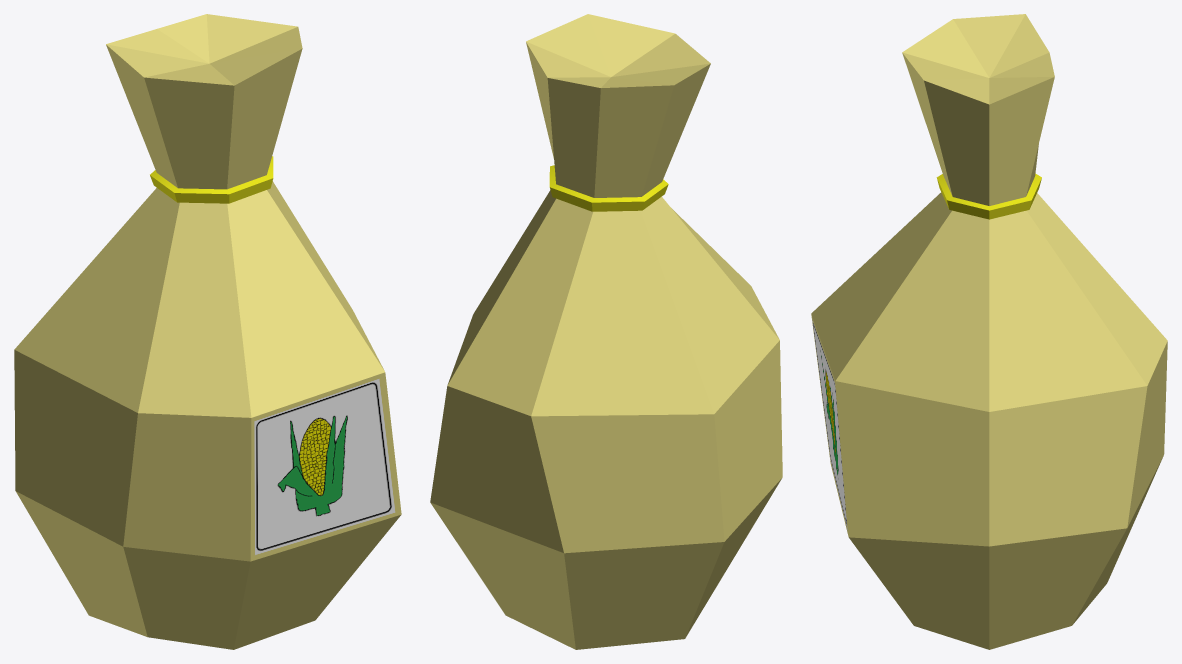
Rendered from SeedBagCorn.fbx.
3 views of the same model, side by side, from view 1: azimuth 30°, elevation 25°; view 2: azimuth 150°, elevation 25°; view 3: azimuth 270°, elevation 25° (orthographic). The views are drawn at different scales.
Parts seen in each view (by area): view 1: SeedBagCorn; view 2: SeedBagCorn; view 3: SeedBagCorn.
Part boxes in pixels (x1=…): SeedBagCorn: x1=14, y1=14, x2=401, y2=649; SeedBagCorn: x1=430, y1=14, x2=782, y2=649; SeedBagCorn: x1=811, y1=14, x2=1167, y2=649.
Size of the model in its own units: 2.87 by 5.22 by 3.
Materials: 1 (1 with a texture image).
